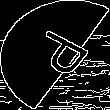P_SE: (17, 26, 93, 84)
